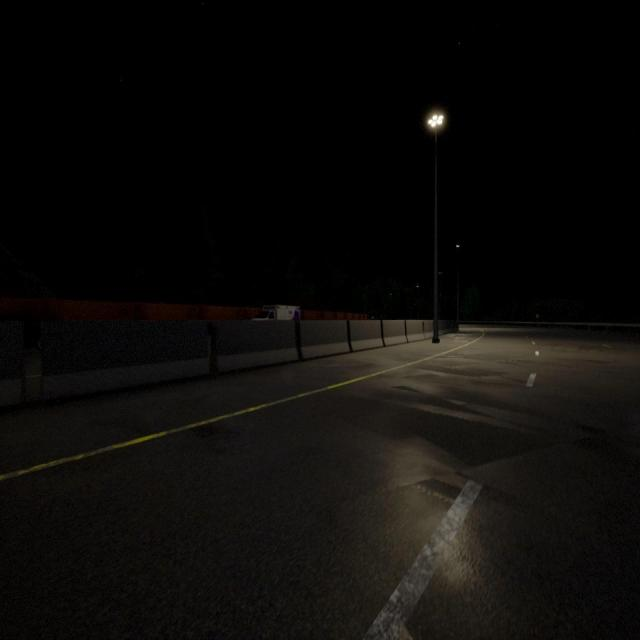Traffic_Signs: (536, 314, 538, 318)
Vehicle: (254, 305, 300, 321)
